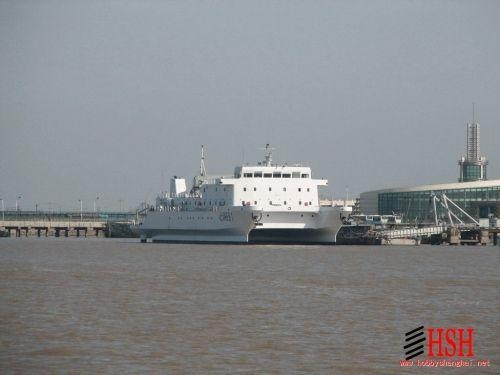otherboat: (140, 145, 343, 248)
